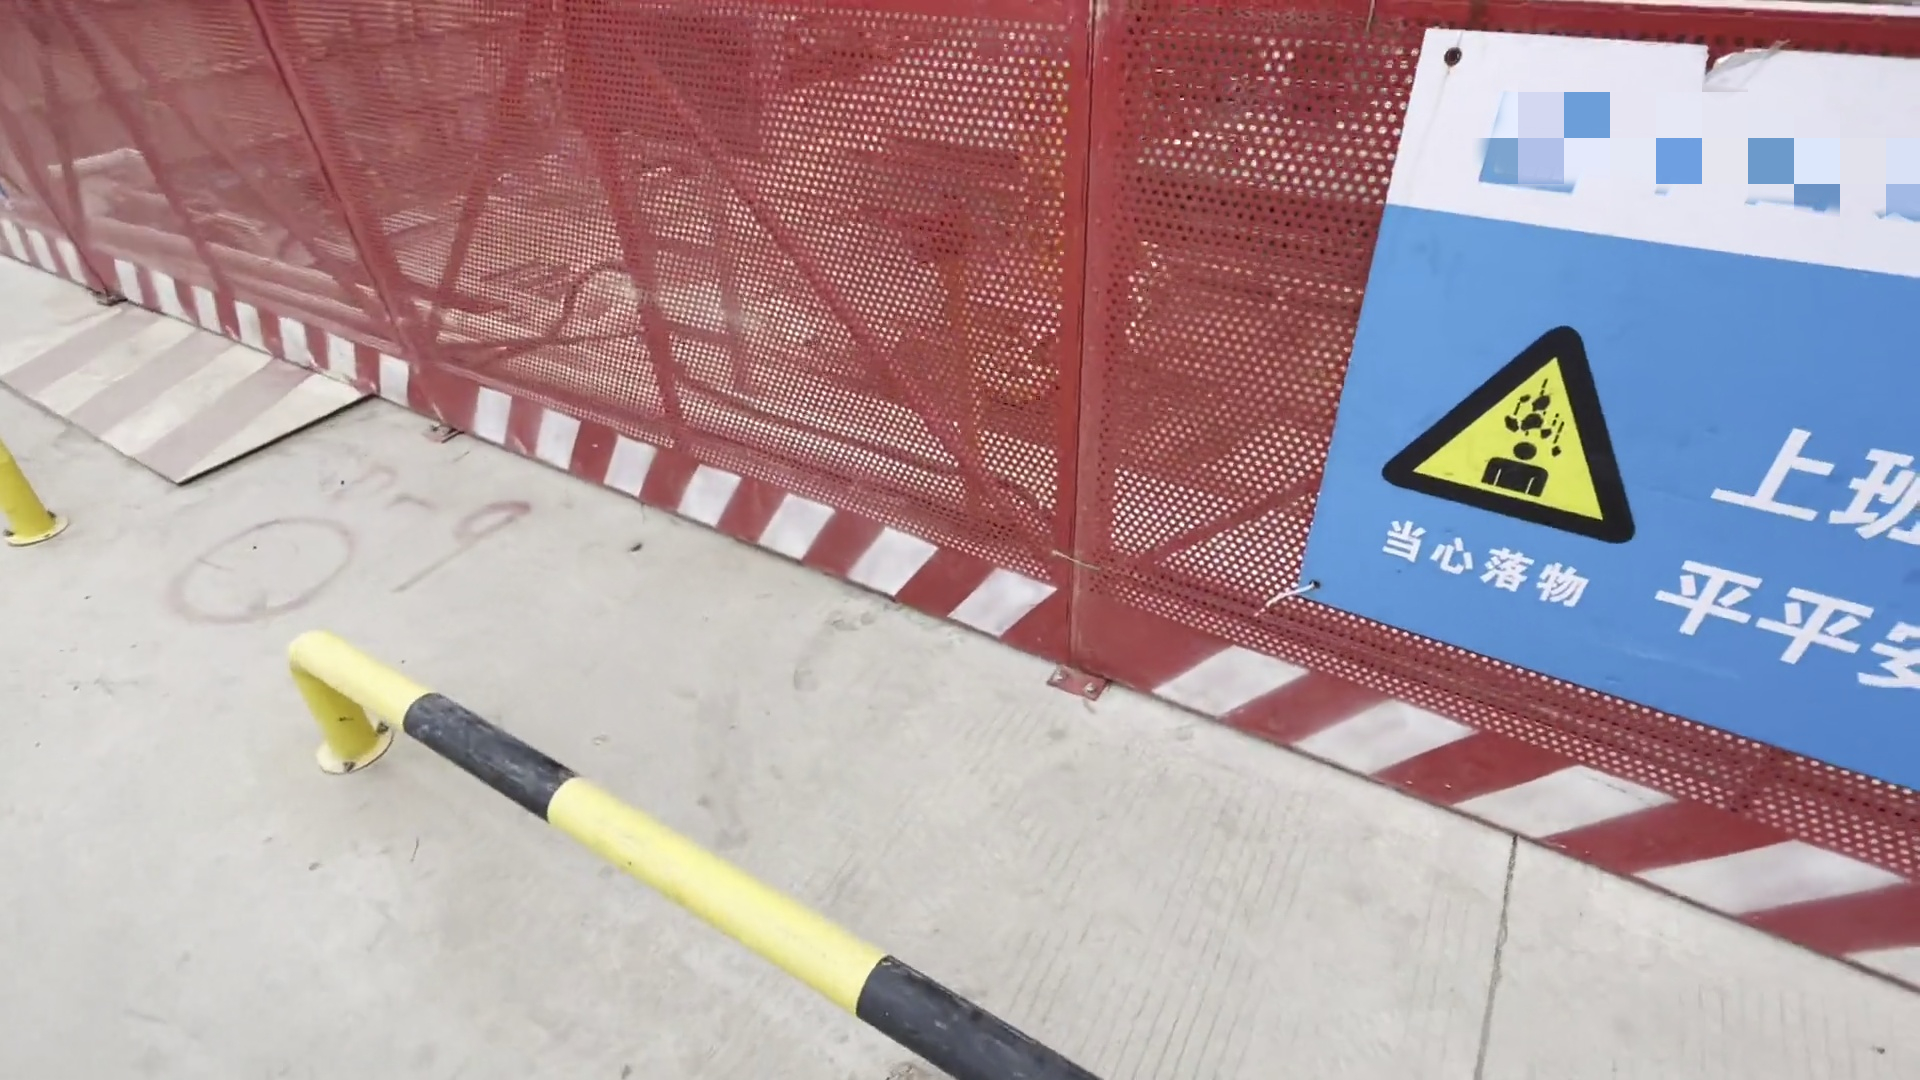fence: (3, 1, 1362, 727)
slogan: (1400, 237, 1920, 686)
